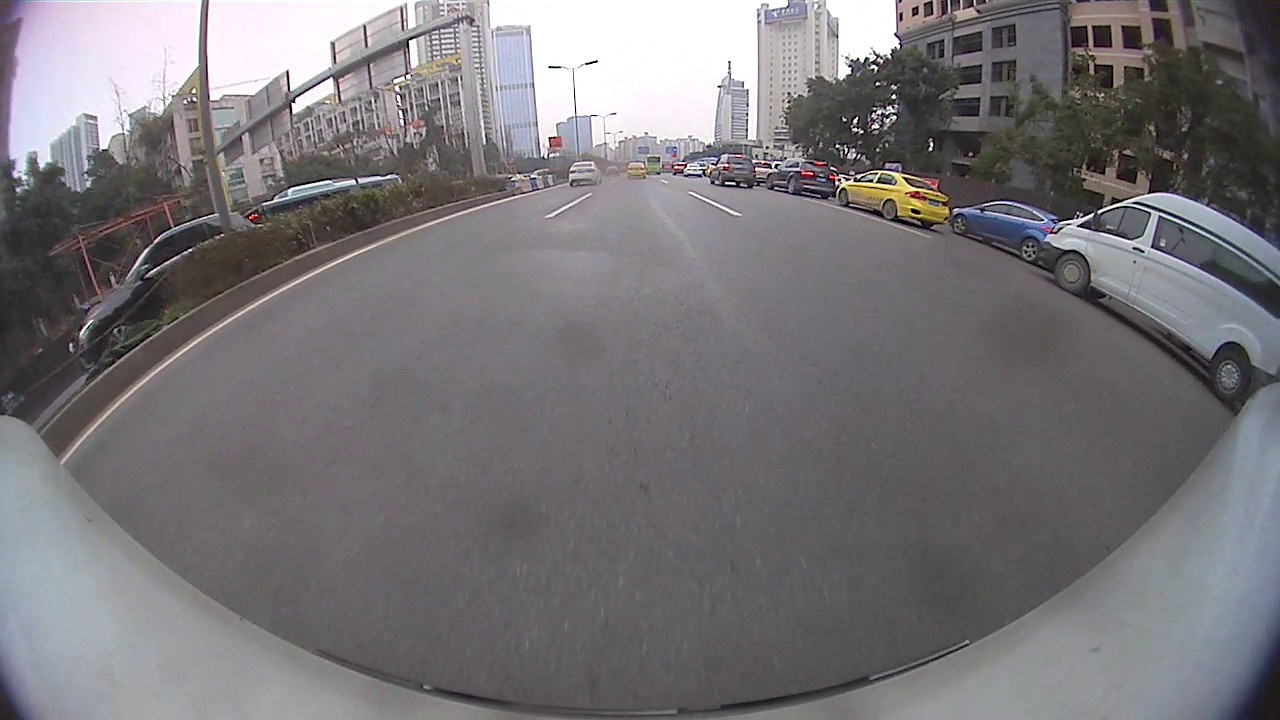bus: (246, 174, 400, 227)
car: (1045, 192, 1279, 403), (70, 212, 253, 369), (950, 201, 1057, 262), (837, 170, 950, 227), (768, 157, 837, 198), (709, 154, 757, 189), (567, 160, 601, 187)
front: (1051, 251, 1093, 294), (953, 213, 968, 237), (839, 187, 849, 209)
rear: (1209, 353, 1252, 403), (1020, 236, 1041, 265), (880, 199, 901, 220), (788, 177, 798, 194)
